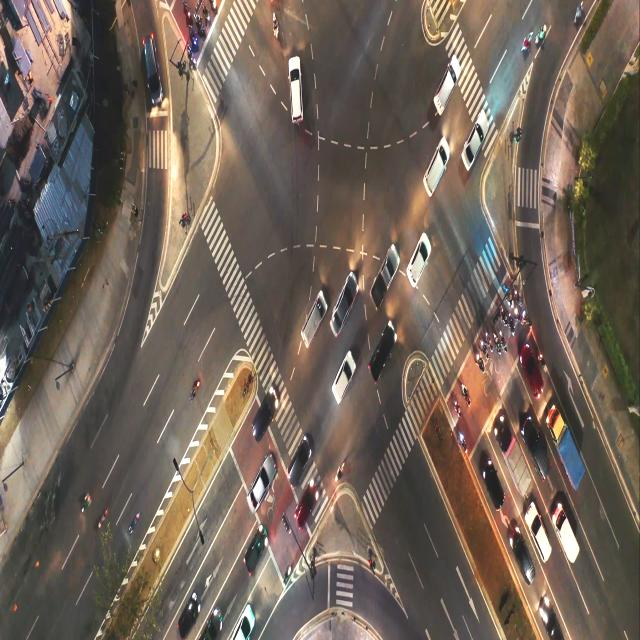car: (513, 538, 527, 573), (484, 472, 498, 506), (530, 432, 542, 471), (334, 370, 350, 398), (298, 494, 312, 525), (288, 84, 304, 111), (378, 337, 391, 370), (439, 77, 453, 107), (334, 301, 350, 327), (251, 536, 265, 564), (430, 155, 445, 181), (378, 266, 391, 294), (530, 532, 548, 551), (412, 252, 424, 280), (288, 462, 302, 484), (256, 412, 268, 437), (468, 133, 479, 160), (526, 356, 534, 393), (254, 478, 264, 500), (307, 317, 316, 338)
motorcycle: (270, 15, 282, 37), (522, 32, 532, 48), (538, 26, 549, 40), (335, 463, 344, 480), (453, 402, 461, 421), (191, 381, 199, 399), (194, 15, 205, 28), (465, 383, 471, 405), (187, 49, 197, 62), (210, 0, 218, 15), (461, 432, 467, 450), (206, 7, 211, 28), (502, 335, 507, 356), (501, 303, 506, 324), (478, 354, 483, 374), (510, 320, 516, 336), (183, 6, 190, 19), (516, 284, 520, 306), (542, 355, 547, 372), (497, 336, 501, 356), (508, 287, 511, 308), (521, 314, 526, 326), (488, 337, 492, 350), (189, 38, 200, 42), (483, 346, 487, 356)
truck: (559, 423, 573, 476), (560, 519, 574, 561), (510, 440, 520, 484)
